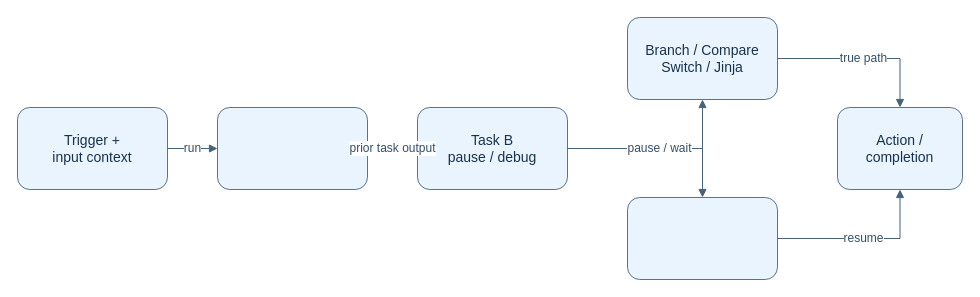
Image size: 980x297. Some labels were removed from this diagram. Here are the shapes that lost their labels. From the top down, the centre of each, then its label:
At pixel 292 148: "Task A inspect output".
At pixel 702 238: "Wait Operator or next task".
